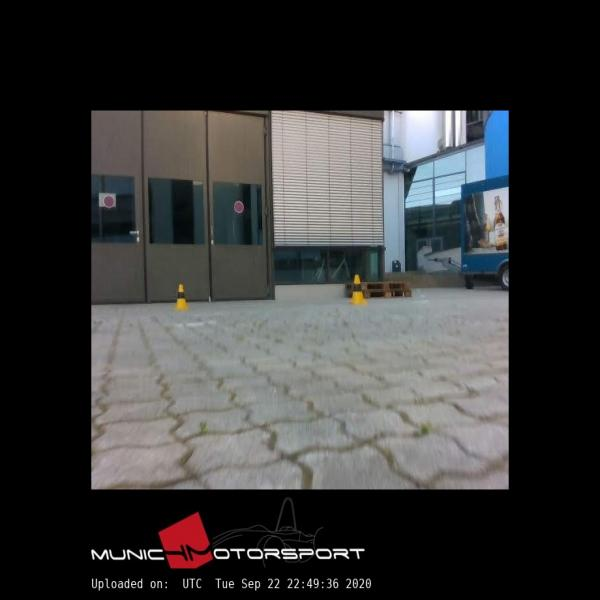yellow_cone: (350, 275, 367, 304), (176, 284, 189, 310)
